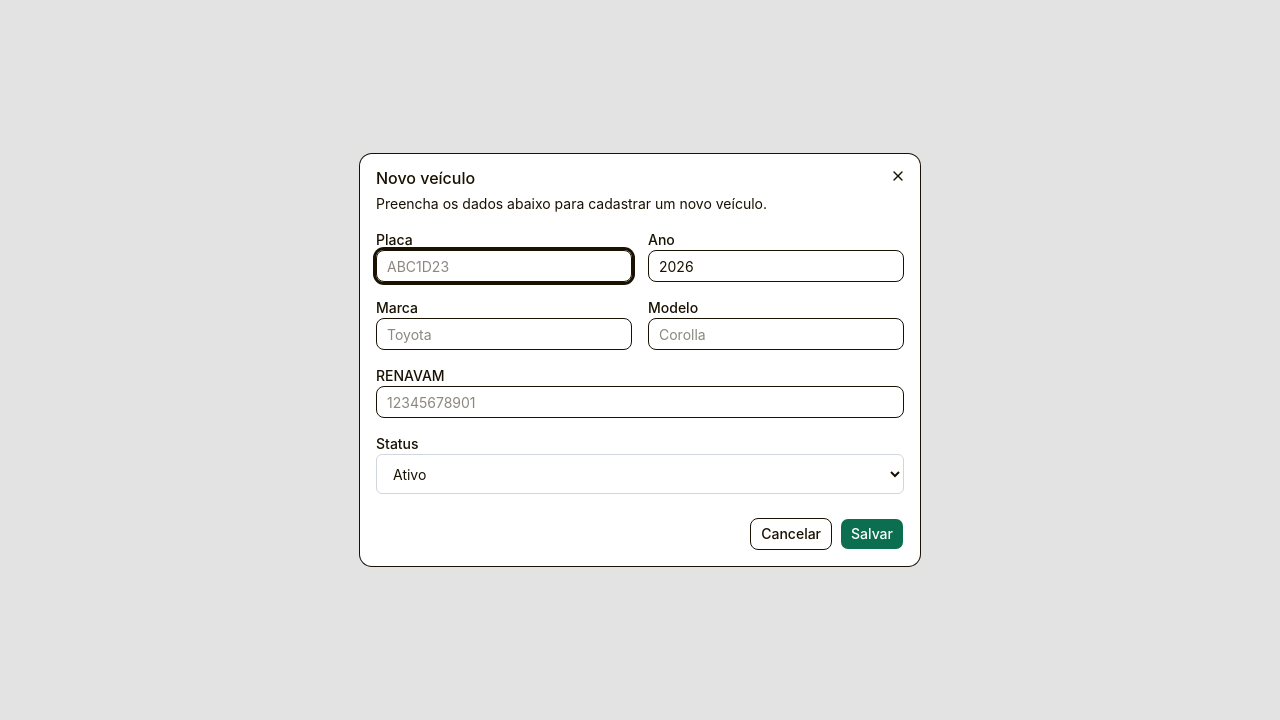
Test: VehicleFormDialog › shows plate format error for invalid plate
This screenshot has width=1280, height=720.
Type "invalidplate" into the field labelled "Placa" at [504, 266], box [376,250,632,282]
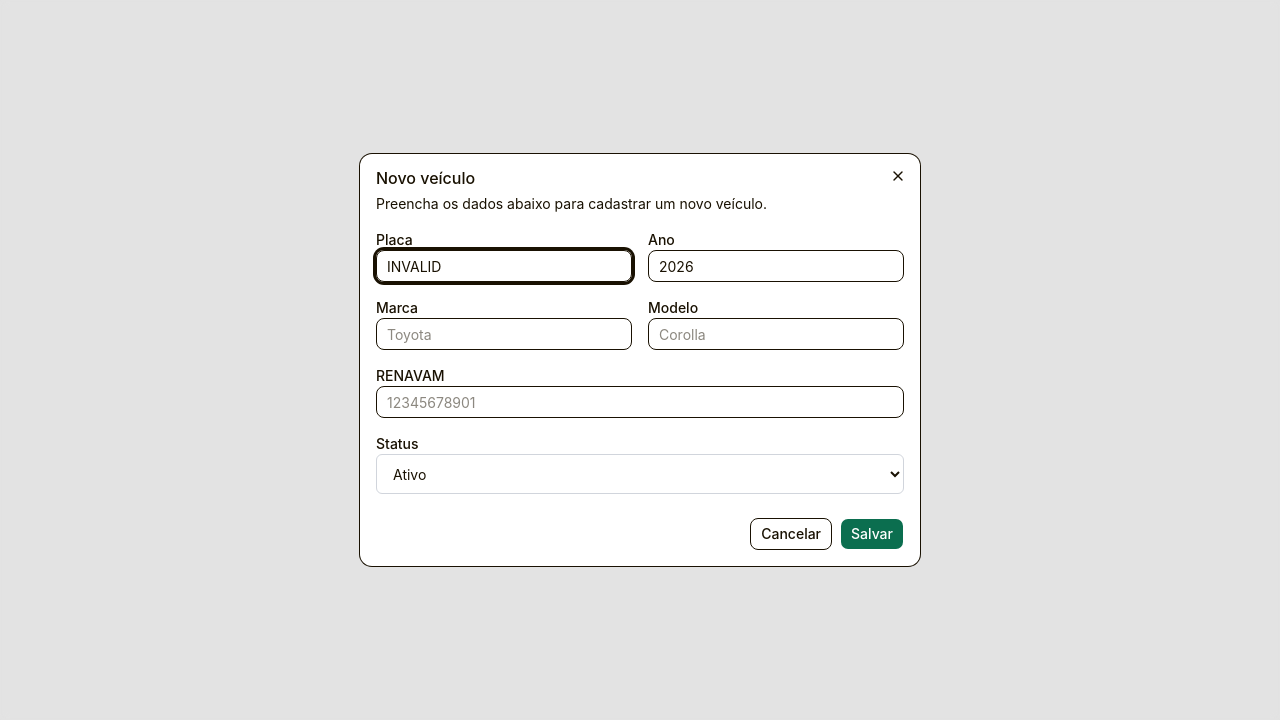
Click the button "Salvar" at [872, 534], box [840,518,904,550]
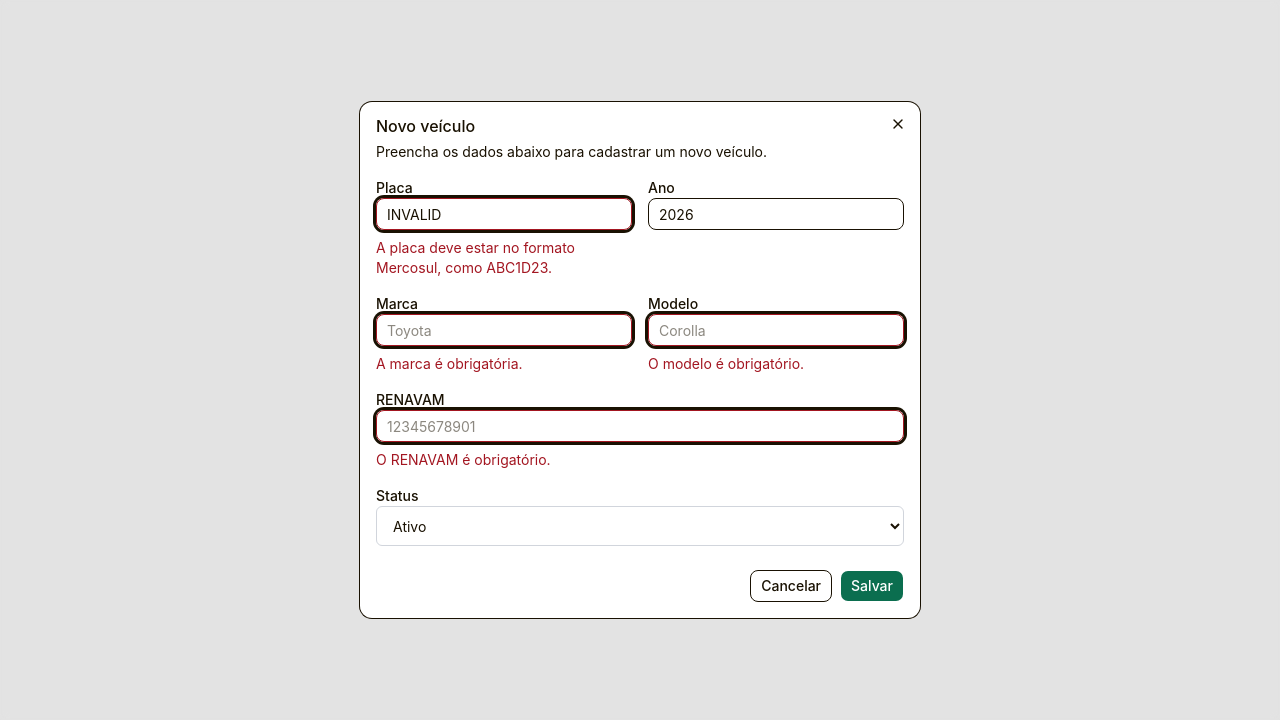
Result: the text "A placa deve estar no formato Mercosul, como ABC1D23." is shown at [376,239,575,276]
